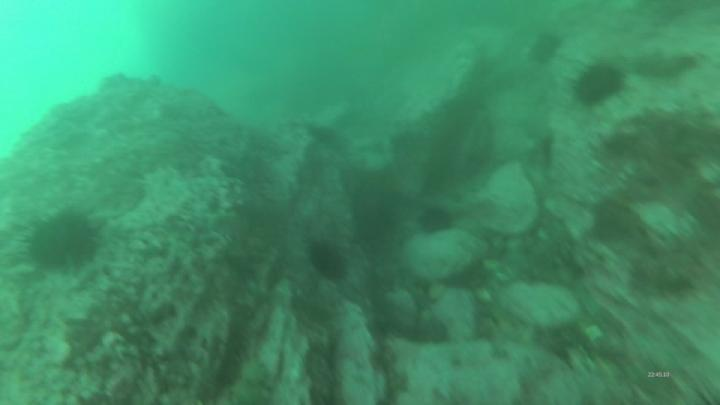echinus: (23, 206, 98, 277), (568, 60, 630, 110), (303, 238, 349, 281), (524, 29, 568, 66), (416, 205, 456, 238)
